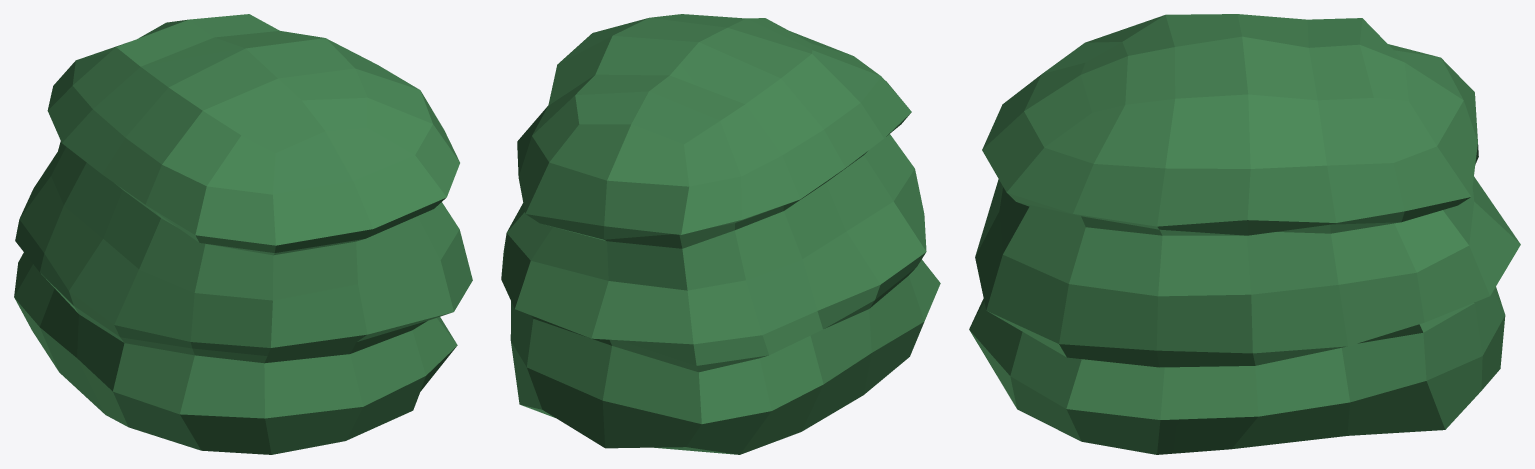
The model's file is Bush_1-optimized.glb.
The picture shows the model from 3 angles, left to right: view 1: azimuth 30°, elevation 25°; view 2: azimuth 150°, elevation 25°; view 3: azimuth 270°, elevation 25°; orthographic projection. The views are drawn at different scales.
Parts seen in each view (by area): view 1: Bush_1; view 2: Bush_1; view 3: Bush_1.
Boxes of the visible parts, bbox=[...] form: Bush_1: bbox=[14, 14, 472, 454]; Bush_1: bbox=[501, 14, 940, 454]; Bush_1: bbox=[969, 14, 1520, 454].
Size of the model in its own units: 1.33 by 1.24 by 1.69.
